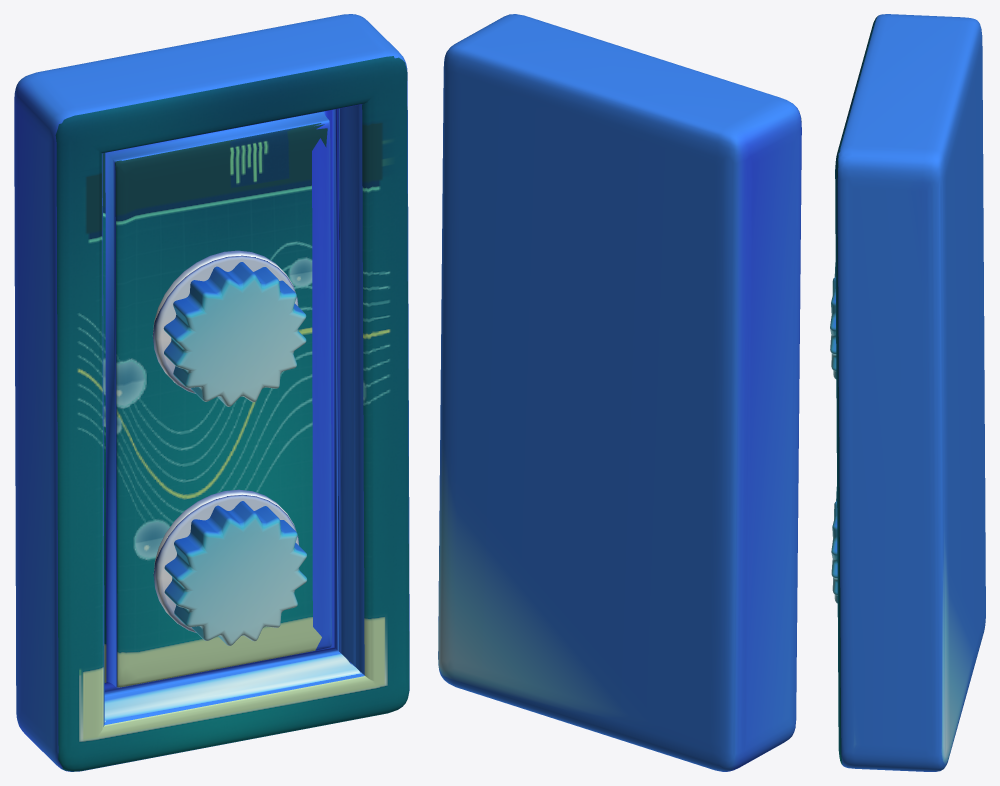
Rendered from cassette.obj.
The picture shows the model from 3 angles, left to right: view 1: azimuth 30°, elevation 25°; view 2: azimuth 150°, elevation 25°; view 3: azimuth 270°, elevation 25°; orthographic projection. The views are drawn at different scales.
Bounding box in the file's own units: 69.85 × 129 × 29.34.
1 material, 1 textured.
